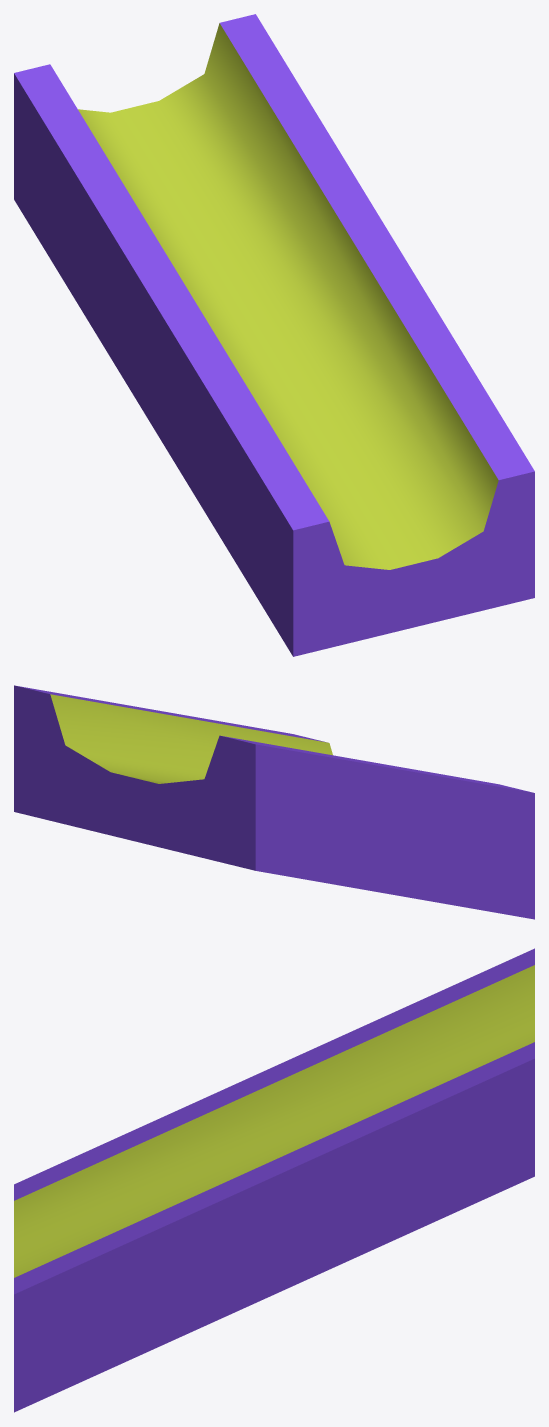
The model's file is slant_long_C-col.dae.
3 views of the same model, one above another, from view 1: azimuth 30°, elevation 25°; view 2: azimuth 150°, elevation 25°; view 3: azimuth 270°, elevation 25° (orthographic). The views are drawn at different scales.
Parts seen in each view (by area): view 1: slant_long_C-col; view 2: slant_long_C-col; view 3: slant_long_C-col.
Boxes of the visible parts, box(x1,y1,x2,y2) form: slant_long_C-col: box(14, 14, 534, 656); slant_long_C-col: box(14, 685, 534, 919); slant_long_C-col: box(14, 948, 534, 1412).
Bounding box in the file's own units: 1 × 2 × 1.5.
